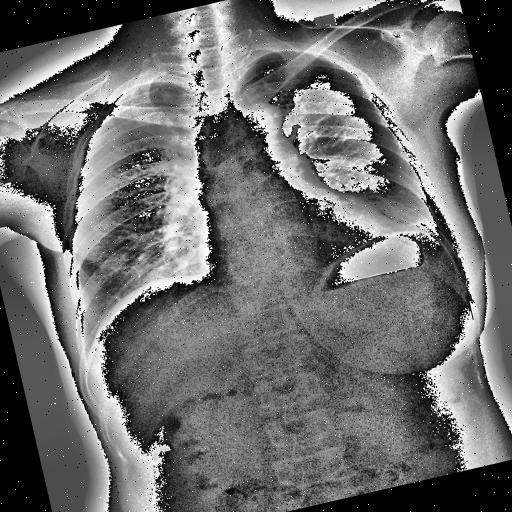0- Aortic enlargement: (220, 100, 287, 158), (230, 100, 286, 148)
11- Pleural thickening: (116, 76, 177, 98)
13- Pulmonary fibrosis: (287, 120, 318, 148)
3- Cardiomegaly: (195, 200, 407, 295), (194, 196, 408, 282), (226, 96, 287, 146)
